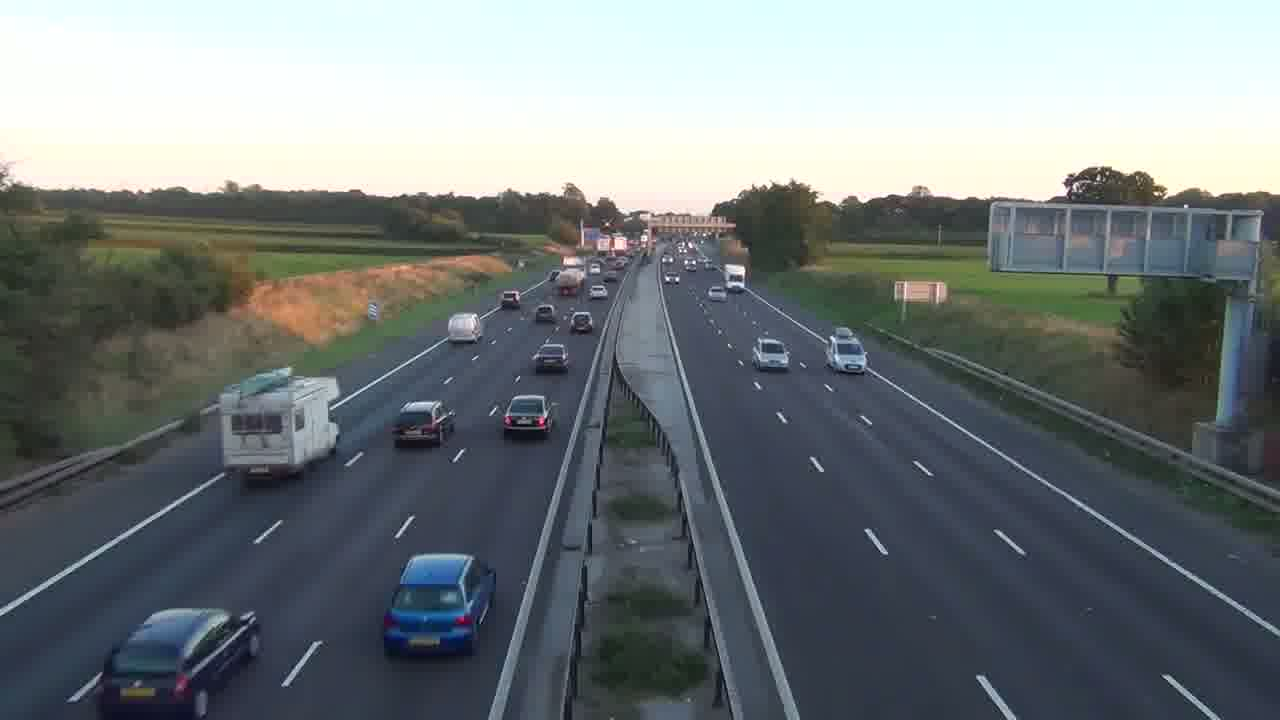car: (95, 606, 262, 718), (382, 552, 497, 658), (390, 399, 456, 449), (503, 394, 552, 439), (752, 335, 790, 372), (531, 341, 569, 373), (569, 310, 593, 334)
truck: (220, 374, 341, 484), (447, 312, 483, 343)
